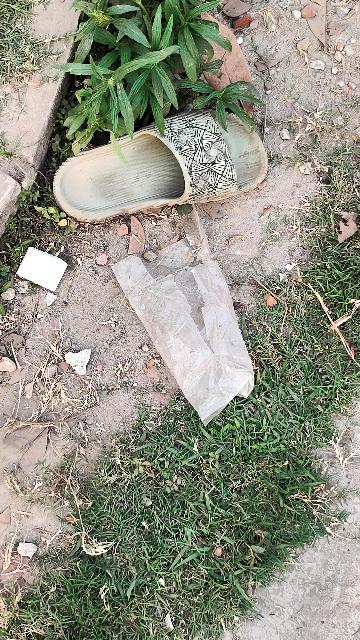polythene: (97, 214, 272, 452)
